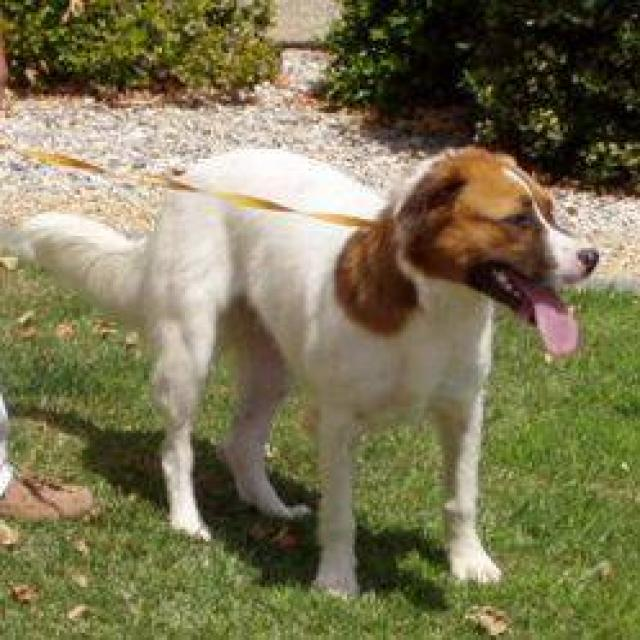dog: (0, 142, 599, 599)
